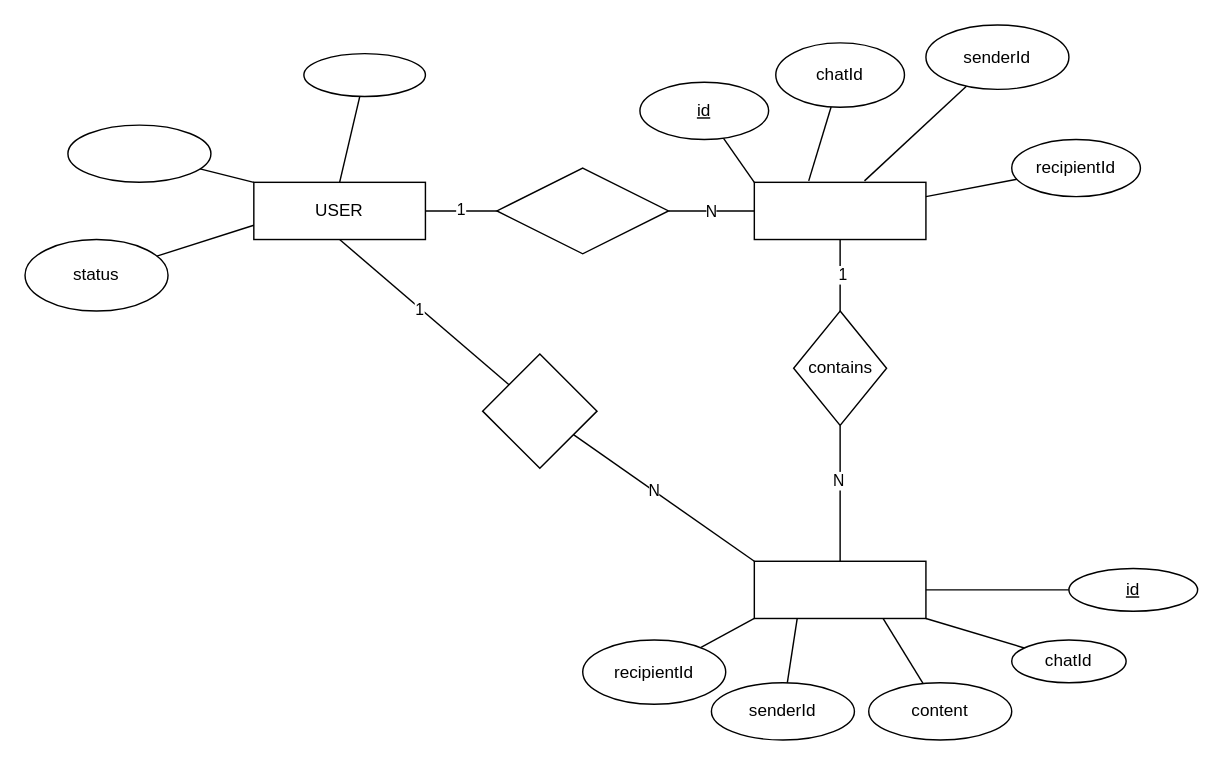
Some shapes in this 1223 by 765 pixel diagram are drawn without their labels. The centre of each missing label's shape, as x and y in pixels:
"CHATMESSAGE" belongs at pixel 839 589.
"CHATROOM" belongs at pixel 839 210.
"fullName" belongs at pixel 363 74.
"nickName" belongs at pixel 138 153.
"participates_in" belongs at pixel 582 210.
"sends" belongs at pixel 539 410.
